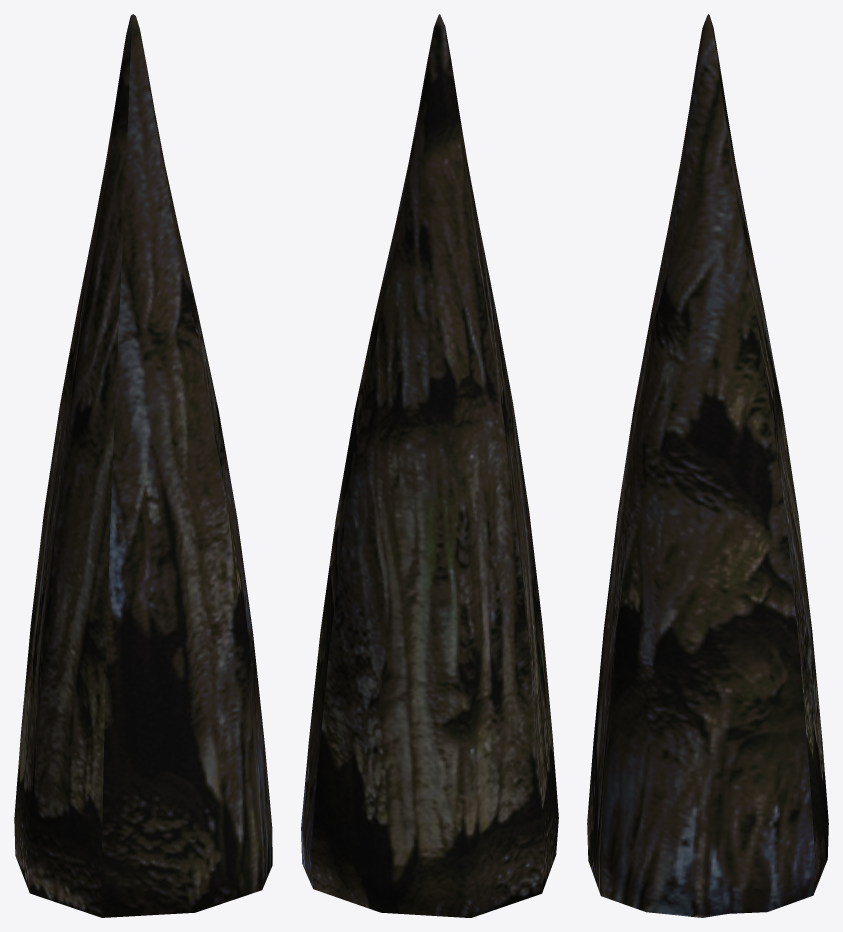
Rendered from Stalagmite.fbx.
3 views of the same model, side by side, from view 1: azimuth 30°, elevation 25°; view 2: azimuth 150°, elevation 25°; view 3: azimuth 270°, elevation 25° (orthographic).
Parts seen in each view (by area): view 1: Cube; view 2: Cube; view 3: Cube.
Part boxes in pixels (bbox=[...]): Cube: bbox=[14, 14, 272, 917]; Cube: bbox=[301, 14, 558, 917]; Cube: bbox=[587, 14, 828, 917].
Bounding box in the file's own units: 1.87 × 1.82 × 7.11.
